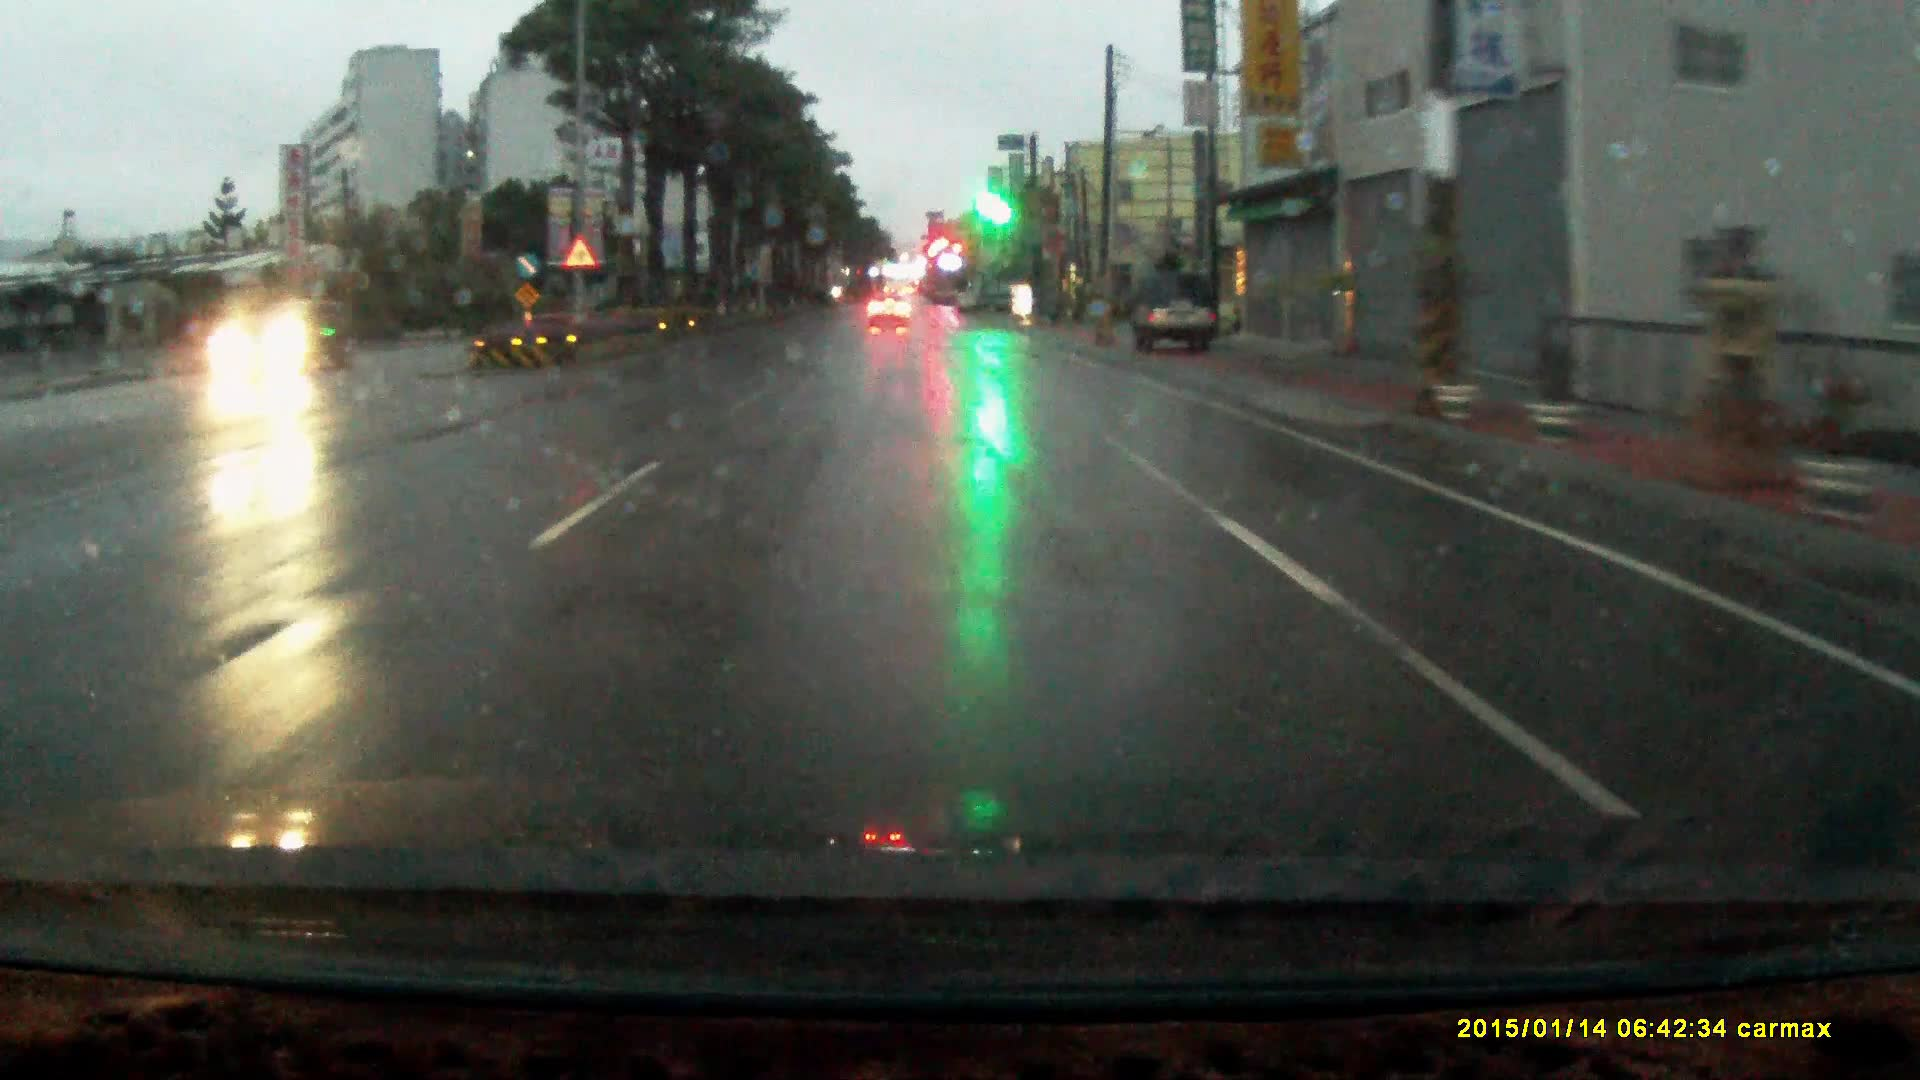vehicle: (203, 301, 359, 382), (1131, 276, 1222, 361), (868, 299, 913, 336)
